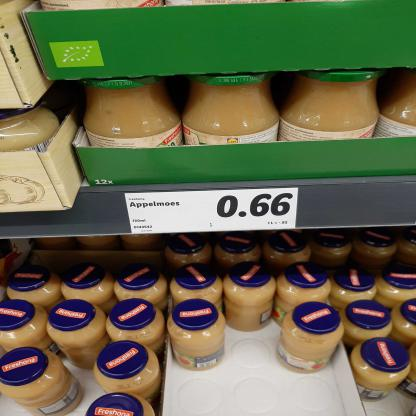prtg: (126, 189, 299, 235)
